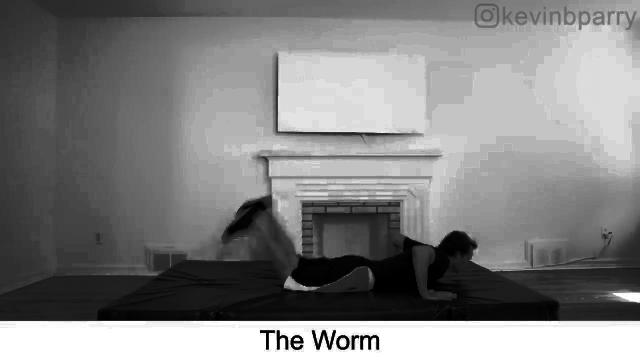jatuh: (223, 191, 481, 314)
